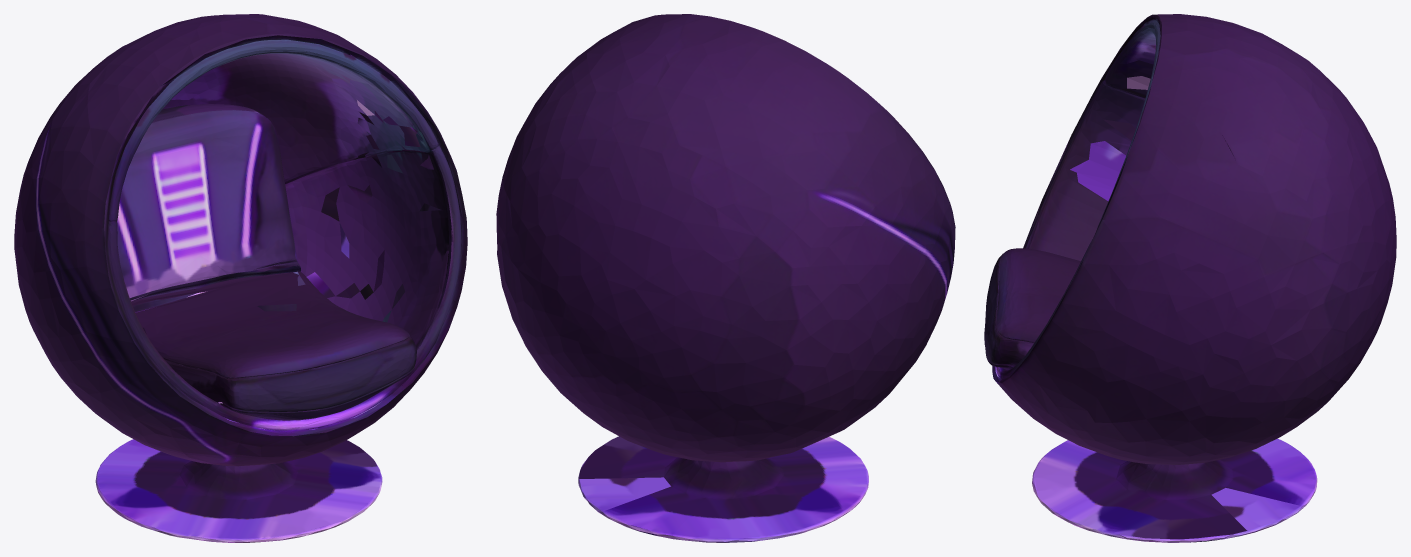
Rendered from edited_mesh.glb.
The picture shows the model from 3 angles, left to right: view 1: azimuth 30°, elevation 25°; view 2: azimuth 150°, elevation 25°; view 3: azimuth 270°, elevation 25°; orthographic projection.
Visible parts, largest first — view 1: solid_001_wire; view 2: solid_001_wire; view 3: solid_001_wire.
Boxes of the visible parts, x1=… form: solid_001_wire: x1=14, y1=14, x2=467, y2=542; solid_001_wire: x1=496, y1=14, x2=955, y2=542; solid_001_wire: x1=984, y1=14, x2=1396, y2=542.
Size of the model in its own units: 1.25 by 1.37 by 1.15.
1 material, 1 textured.
